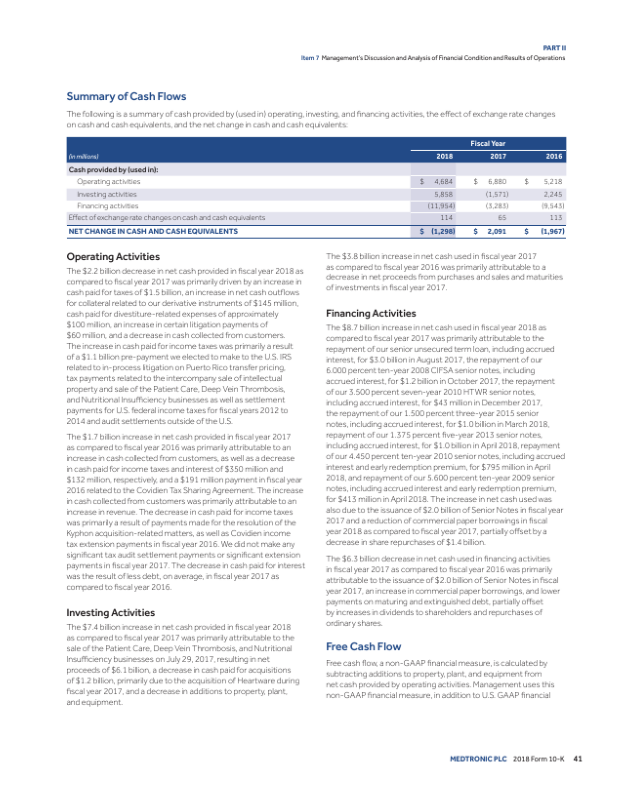table: (67, 138, 565, 237)
